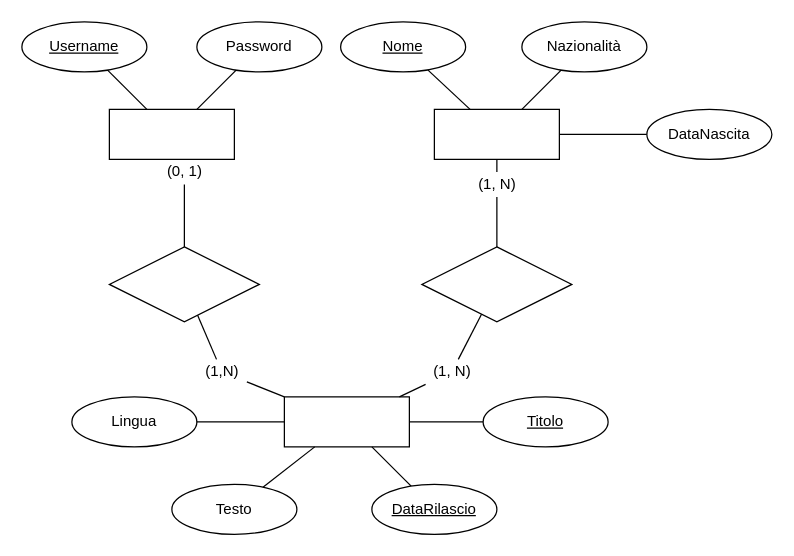
The diagram is 794 pixels wide and 556 high, and some of its shapes have lost their labels. Each missing label, with the centre of its shape:
Aggiunta: (x=183, y=284)
Artista: (x=496, y=133)
Canzone: (x=346, y=421)
Esecuzione: (x=496, y=284)
Utente: (x=171, y=133)
